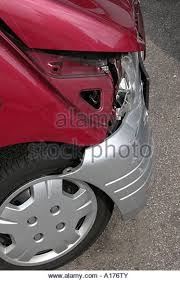Broken-glass: (113, 45, 147, 121)
Dent: (7, 12, 150, 211)
